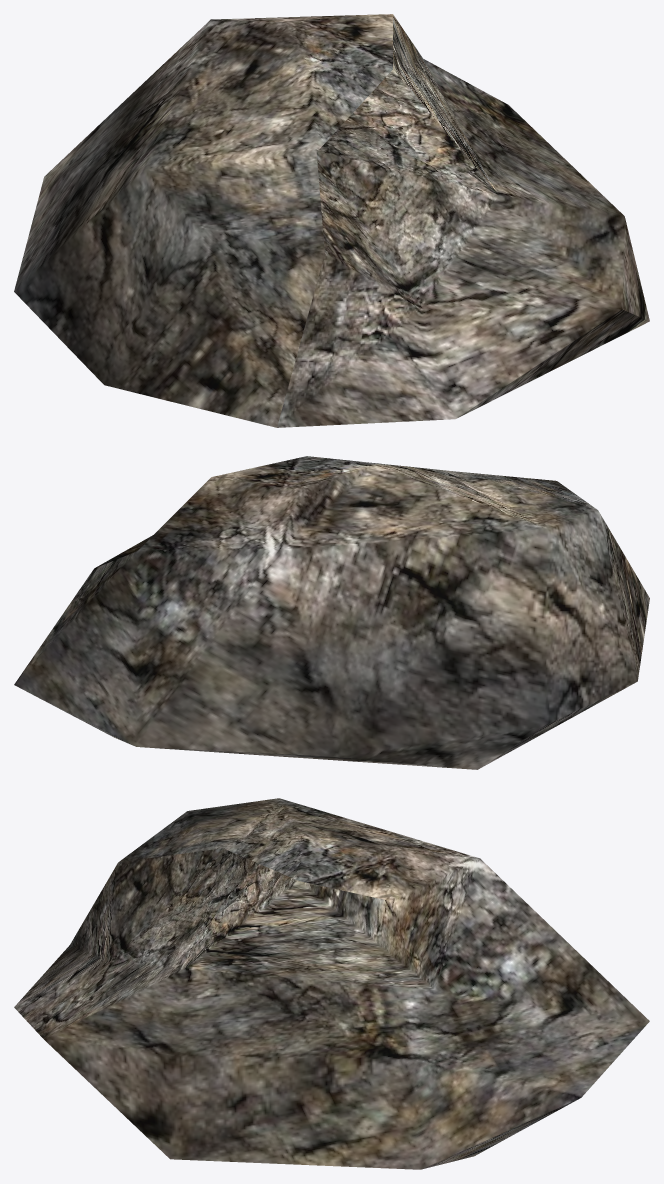
The model's file is pir_m_prp_cav_rock_j.fbx.
The picture shows the model from 3 angles, top to bottom: view 1: azimuth 30°, elevation 25°; view 2: azimuth 150°, elevation 25°; view 3: azimuth 270°, elevation 25°; orthographic projection. The views are drawn at different scales.
Parts seen in each view (by area): view 1: lod_high; view 2: lod_high; view 3: lod_high.
Boxes of the visible parts, x1,y1,x2,y2 form: lod_high: [14, 14, 649, 427]; lod_high: [14, 456, 649, 769]; lod_high: [14, 798, 649, 1169].
Bounding box in the file's own units: 228 × 111 × 264.
Materials: 1 (1 with a texture image).
